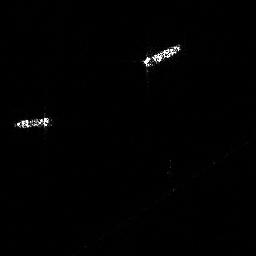ship: (143, 44, 181, 68), (15, 116, 49, 127)
